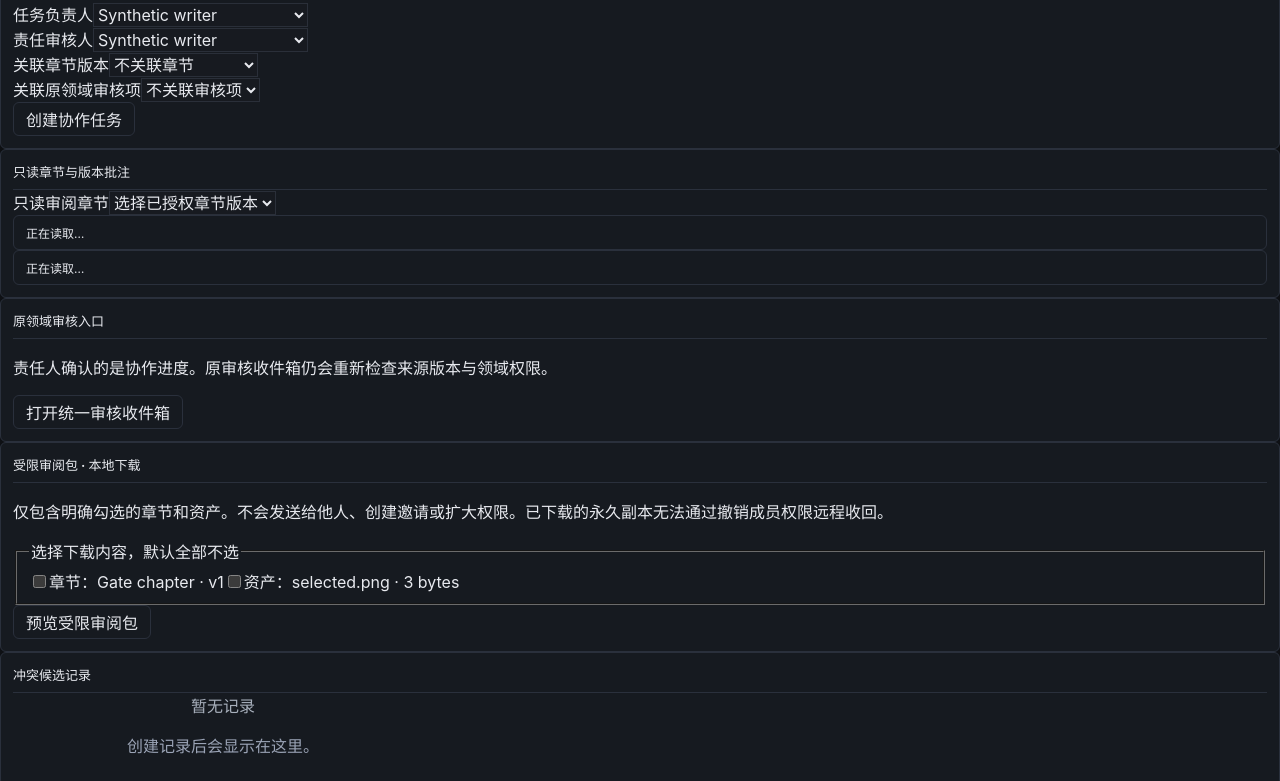
Test: requires explicit selected-only preview and copy acknowledgment, and revokes stale Blob URLs
(page scrolled)
Expected: the button "预览受限审阅包" is disabled, [13,605,151,639]
Click the checkbox labelled "章节：Gate chapter · v1" at (40, 581), box [33,575,46,588]
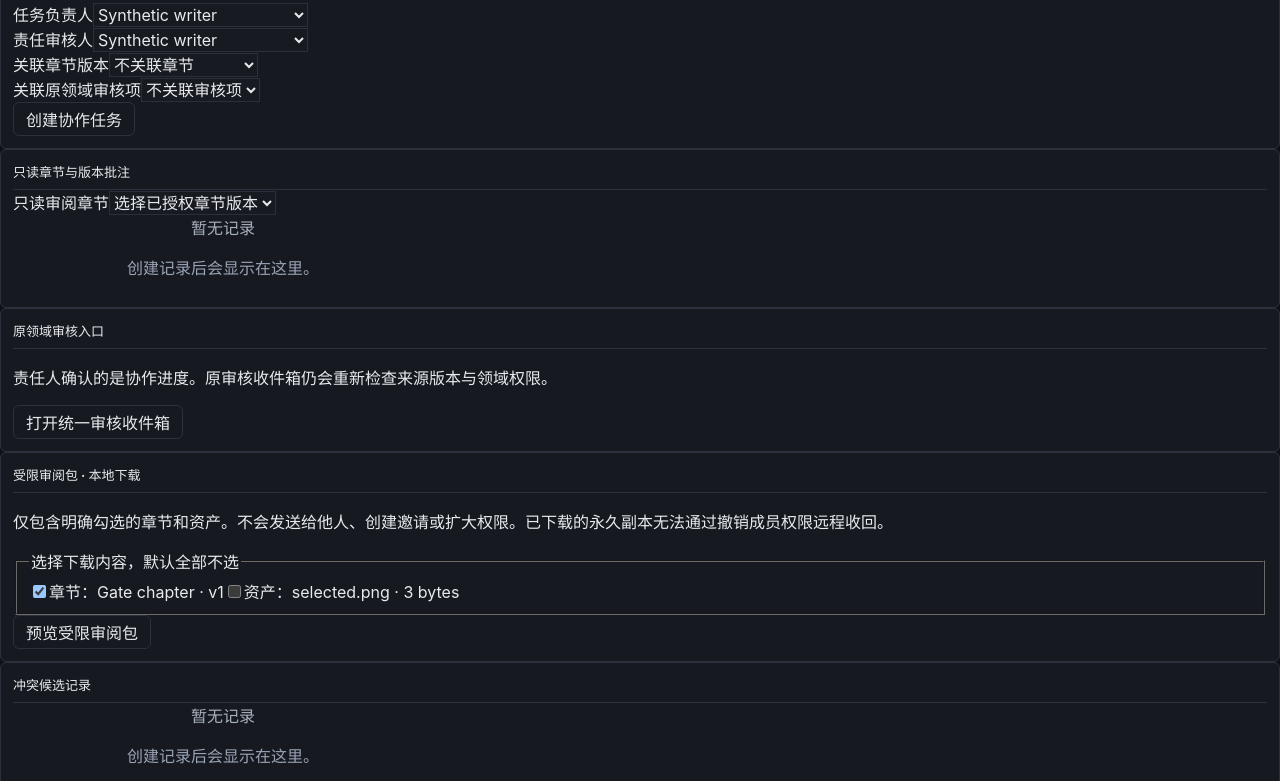
Click the button "预览受限审阅包" at (82, 632), box [13,615,151,649]
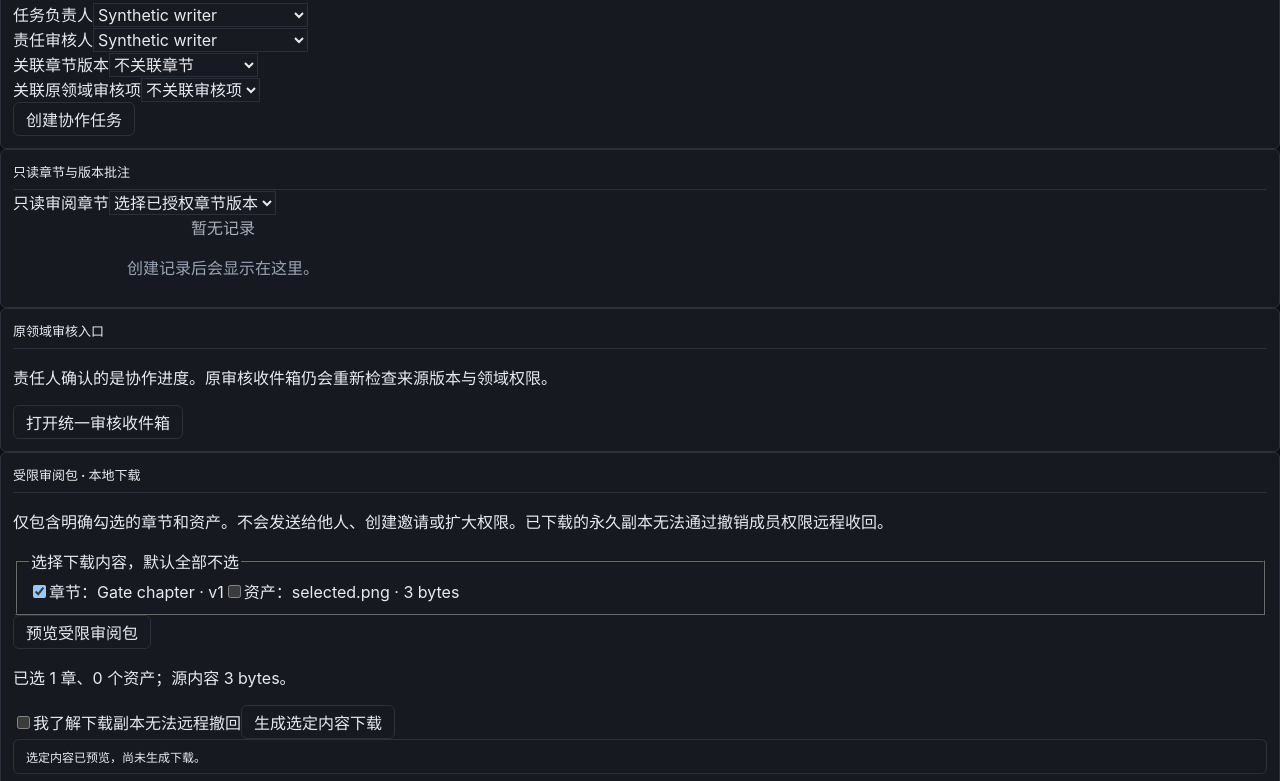
Expected: the button "生成选定内容下载" is disabled, [241,705,395,739]
Click the checkbox labelled "我了解下载副本无法远程撤回" at (24, 722), box [17,716,30,729]
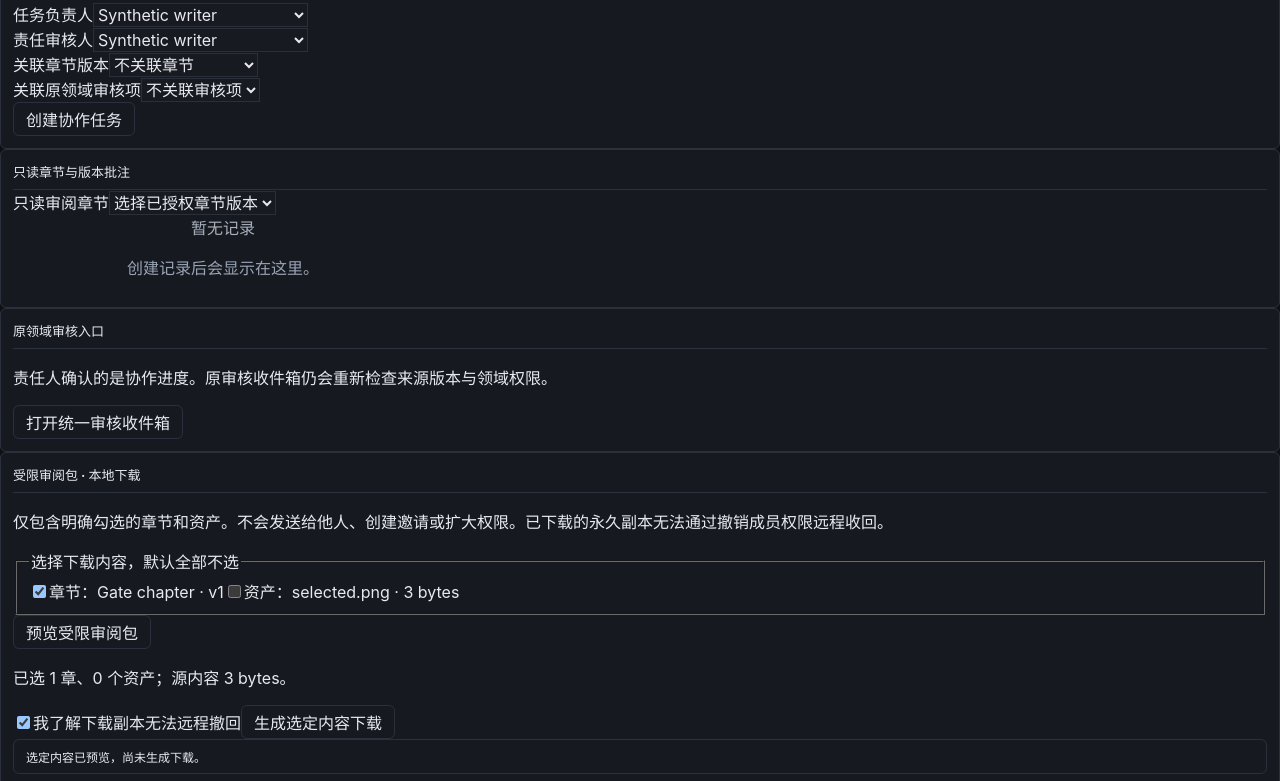
Click the button "生成选定内容下载" at (318, 722), box [241,705,395,739]
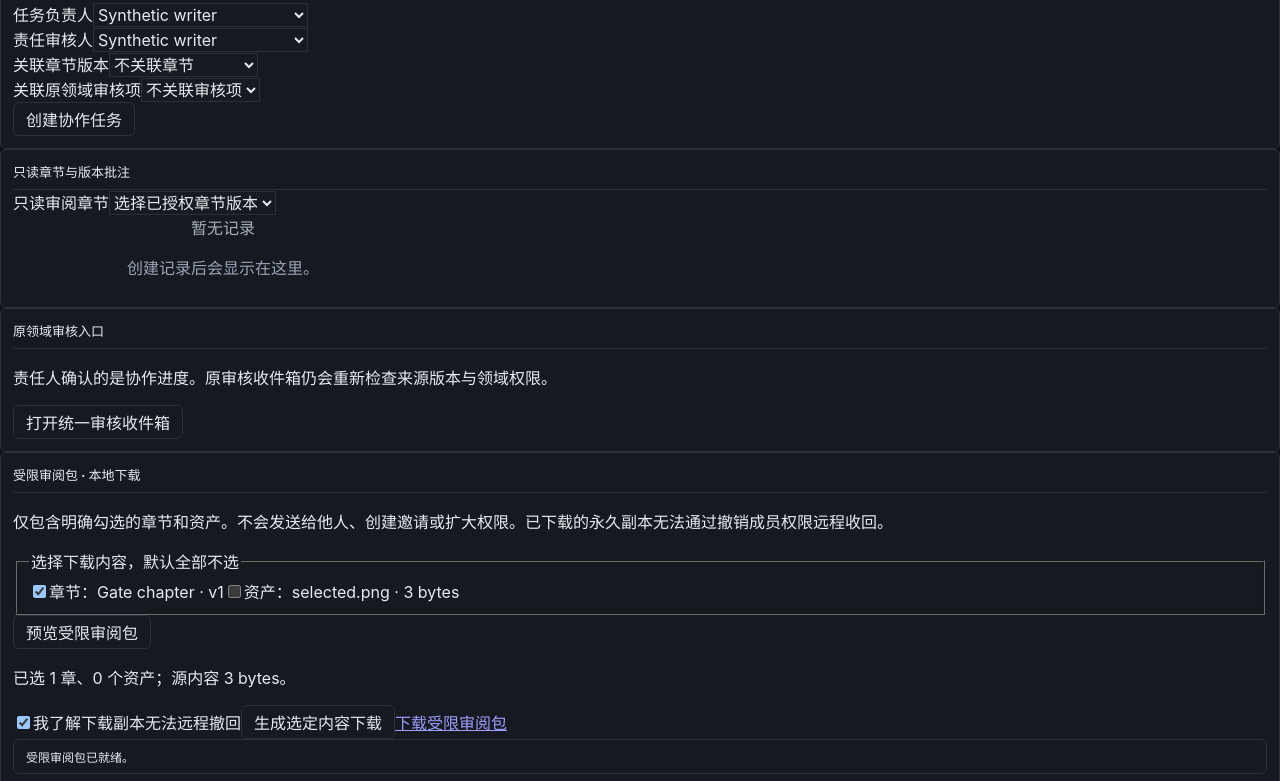
Expected: the link "下载受限审阅包" is shown, [395,713,507,733]
Click the checkbox labelled "资产：selected.png · 3 bytes" at (234, 591), box [228,585,241,598]
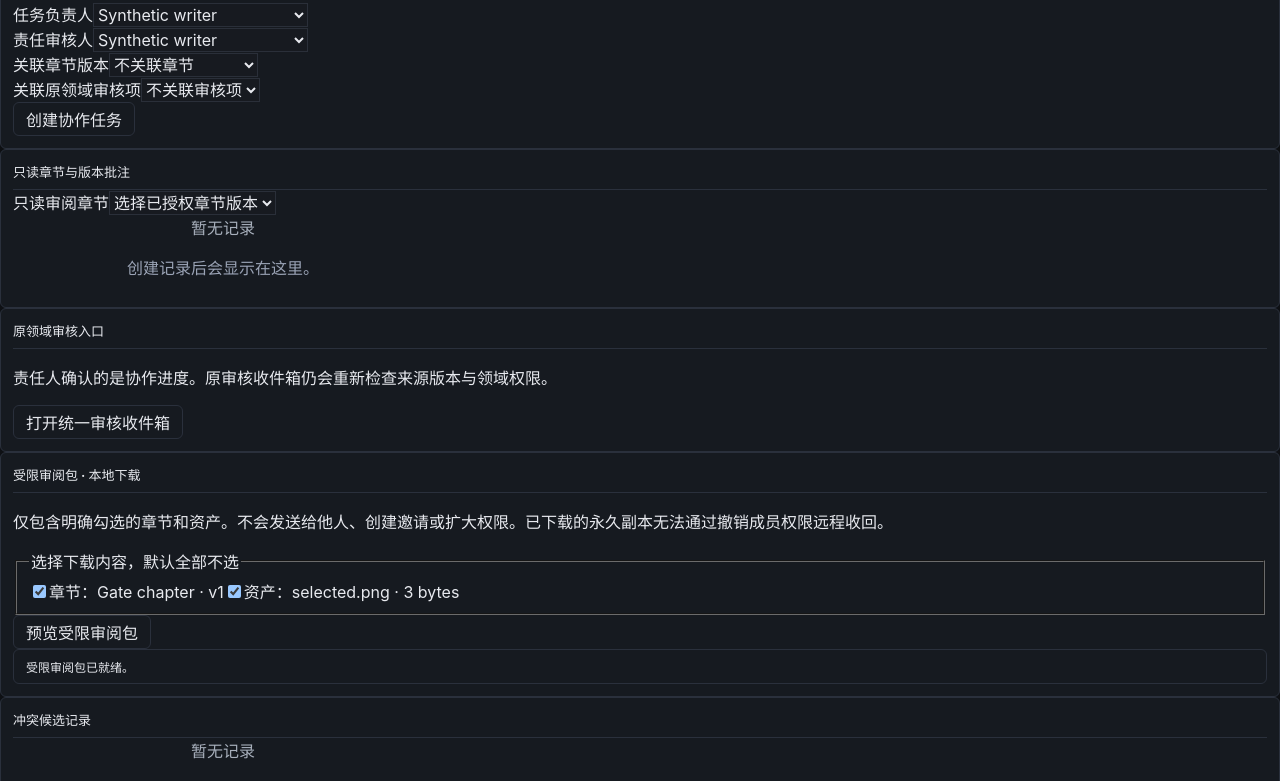
Expected: the link "下载受限审阅包" is gone
